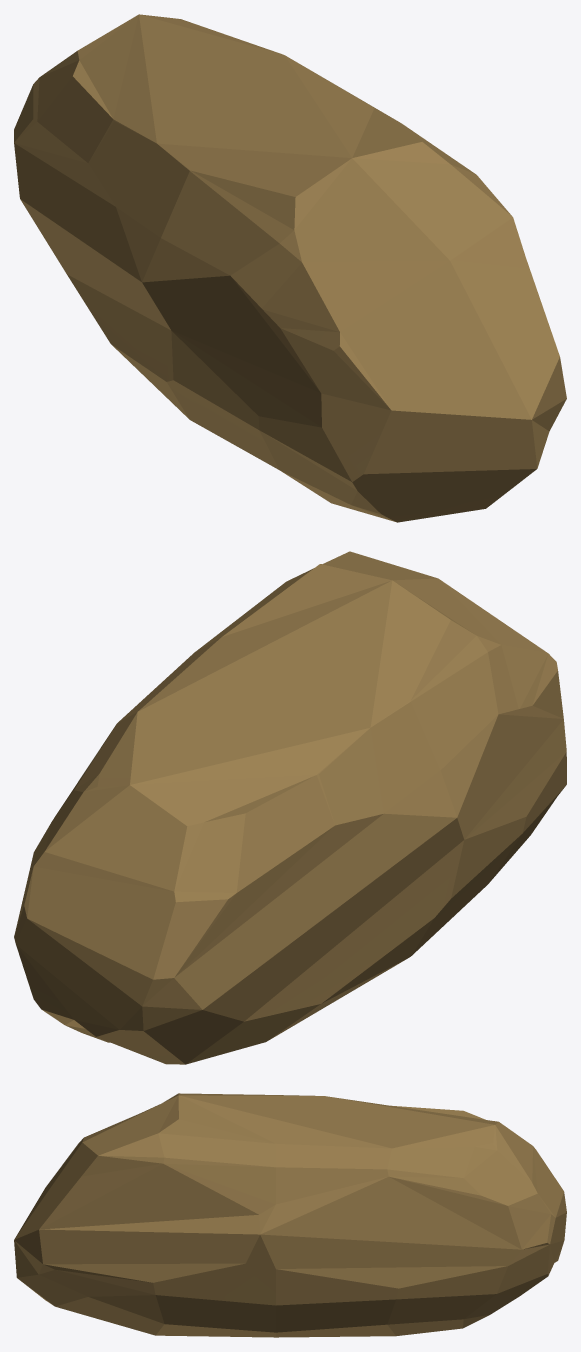
File: rock03.fbx
3 views of the same model, one above another, from view 1: azimuth 30°, elevation 25°; view 2: azimuth 150°, elevation 25°; view 3: azimuth 270°, elevation 25° (orthographic). The views are drawn at different scales.
Parts seen in each view (by area): view 1: rock03; view 2: rock03; view 3: rock03.
Boxes of the visible parts, x1,y1,x2,y2 form: rock03: (14,14,566,522); rock03: (14,551,566,1064); rock03: (14,1093,566,1337).
Size of the model in its own units: 128 by 131 by 300.
